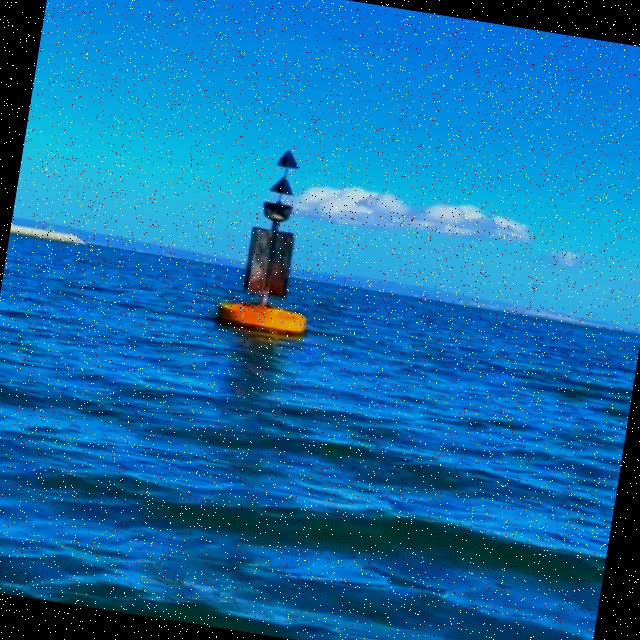marque: (207, 139, 343, 342)
